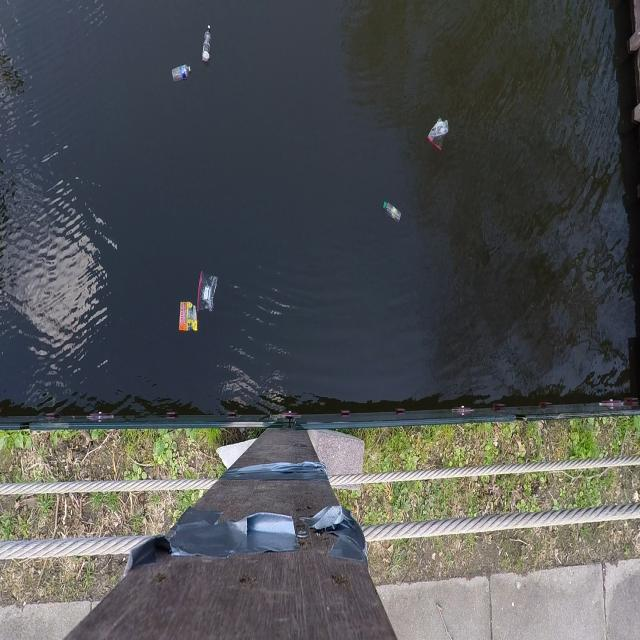Autre plastique: (174, 302, 198, 340)
Bouteille plastique: (198, 22, 216, 67), (166, 62, 195, 87), (379, 199, 402, 226)
Sac plastique: (423, 114, 452, 155), (194, 266, 219, 313)
